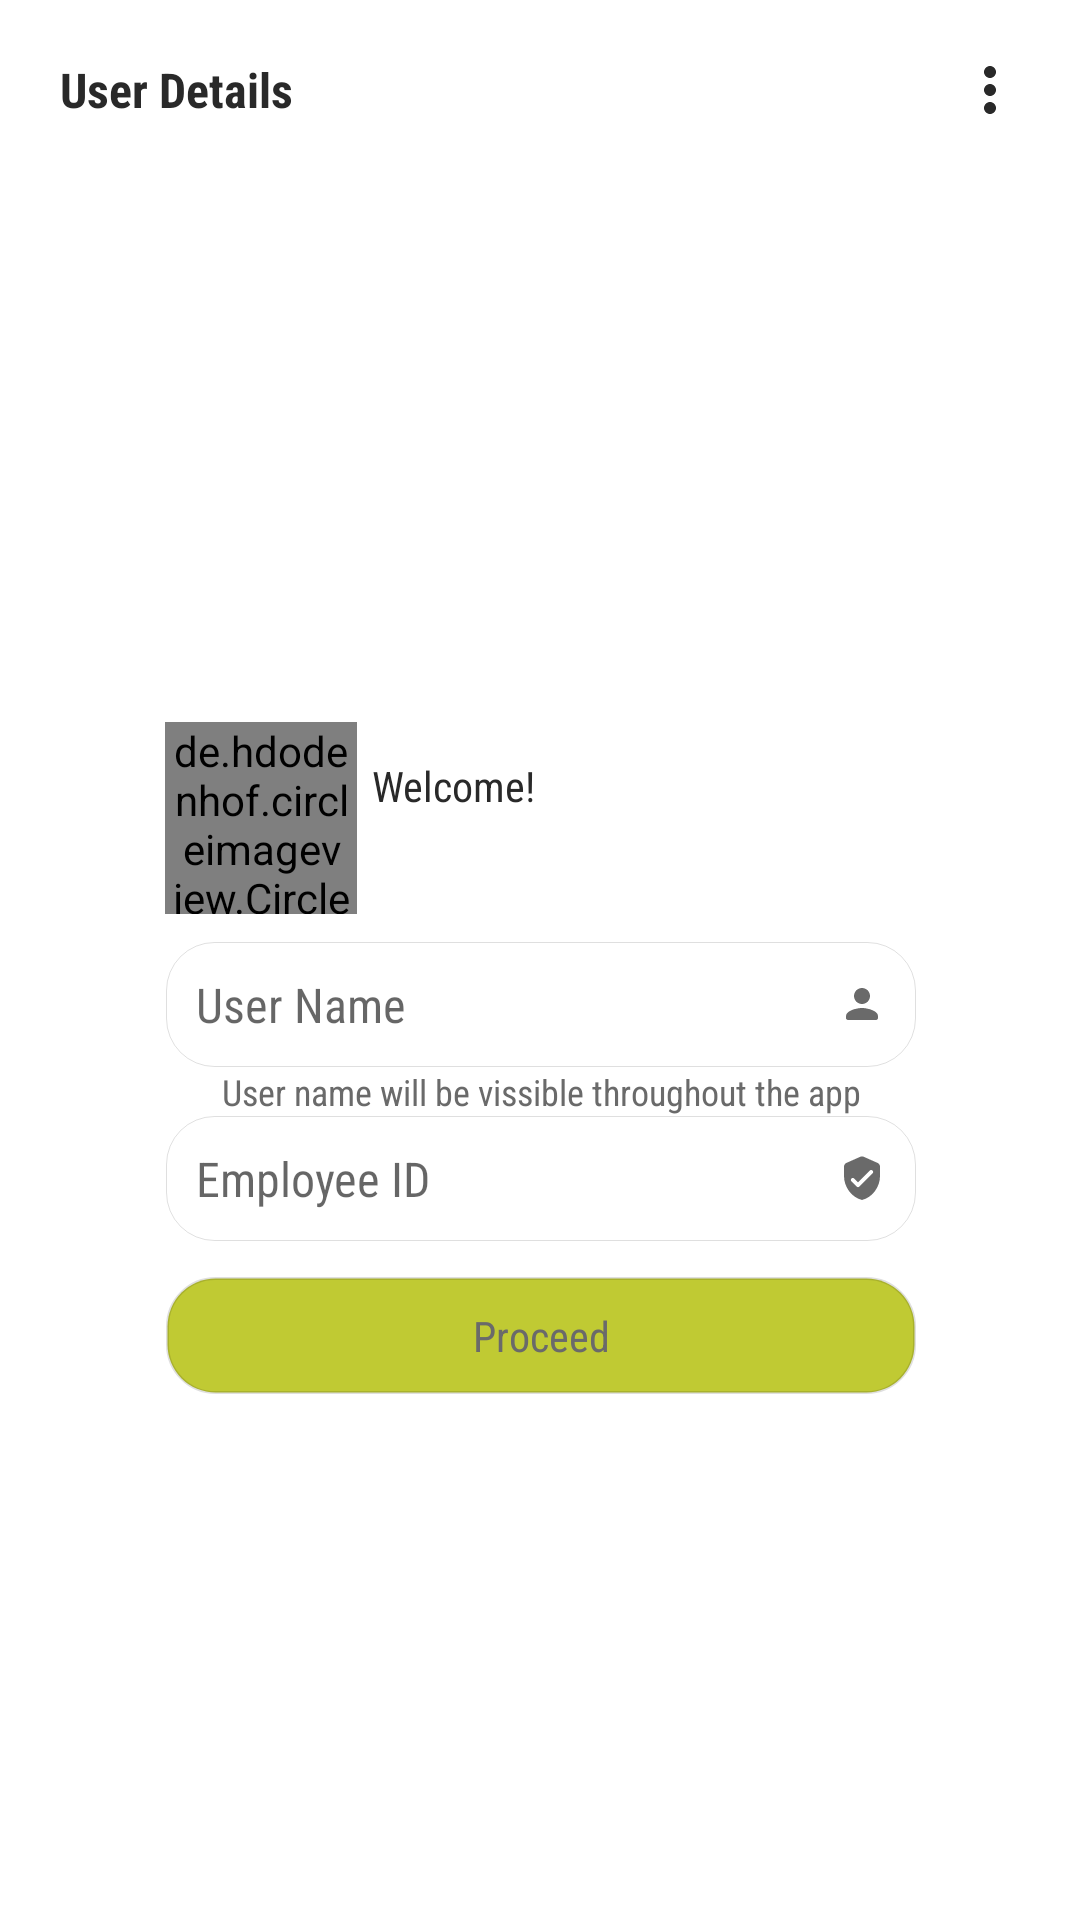

Point at icon controls on the screen. Image size 1080 × 1920, points as [x,y].
more vert: [990,90]
